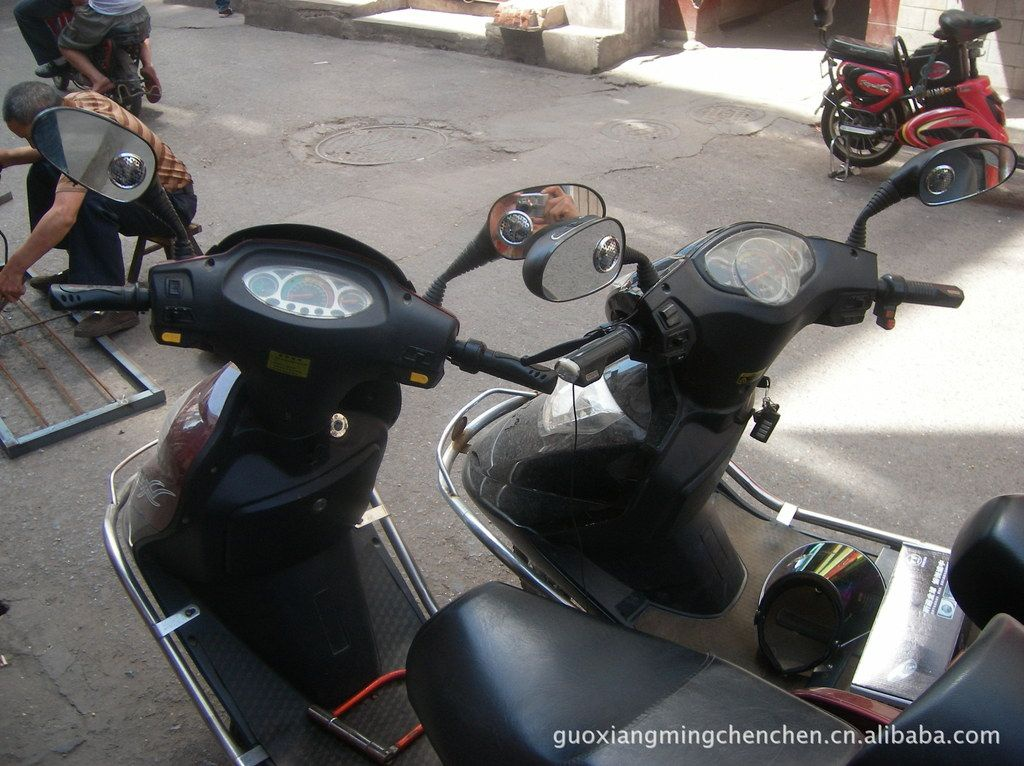non-vehicle: (23, 105, 716, 751), (455, 203, 1009, 725), (800, 11, 991, 165)
